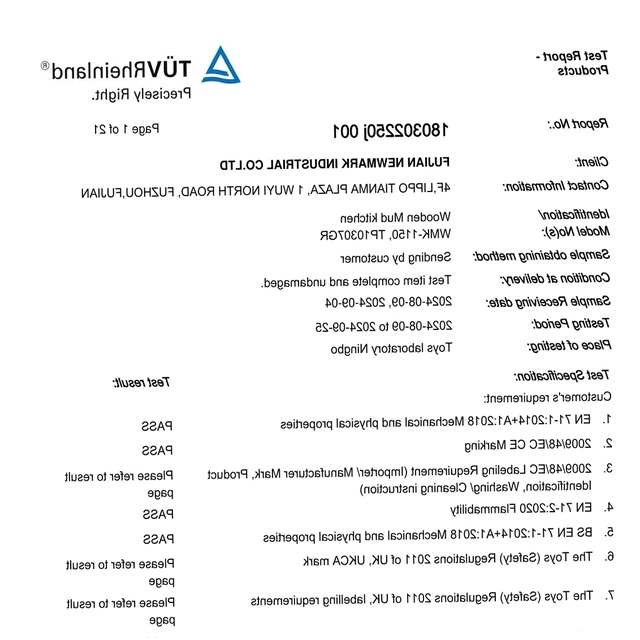tuv_rheinland: (34, 42, 242, 87)
